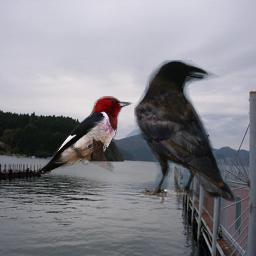Crow: (134, 60, 237, 206)
Woodpecker: (31, 95, 134, 174)
